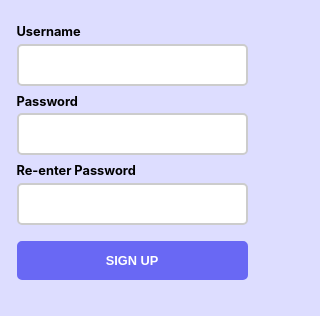
Scenario: should render message: Please fill all fields
Step 1. Click the button "Sign Up" → (132, 261), box [16,241,248,280]
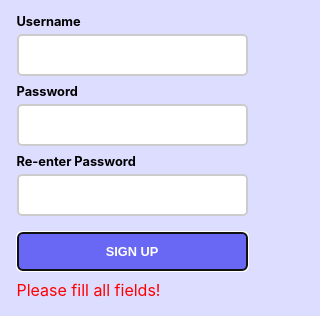
Expected: the text "Please fill all fields!" is shown, [16,280,160,300]
